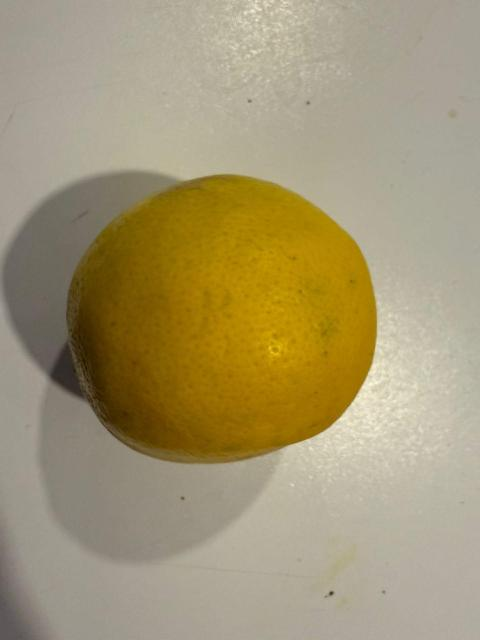Organik: (73, 183, 380, 460)
